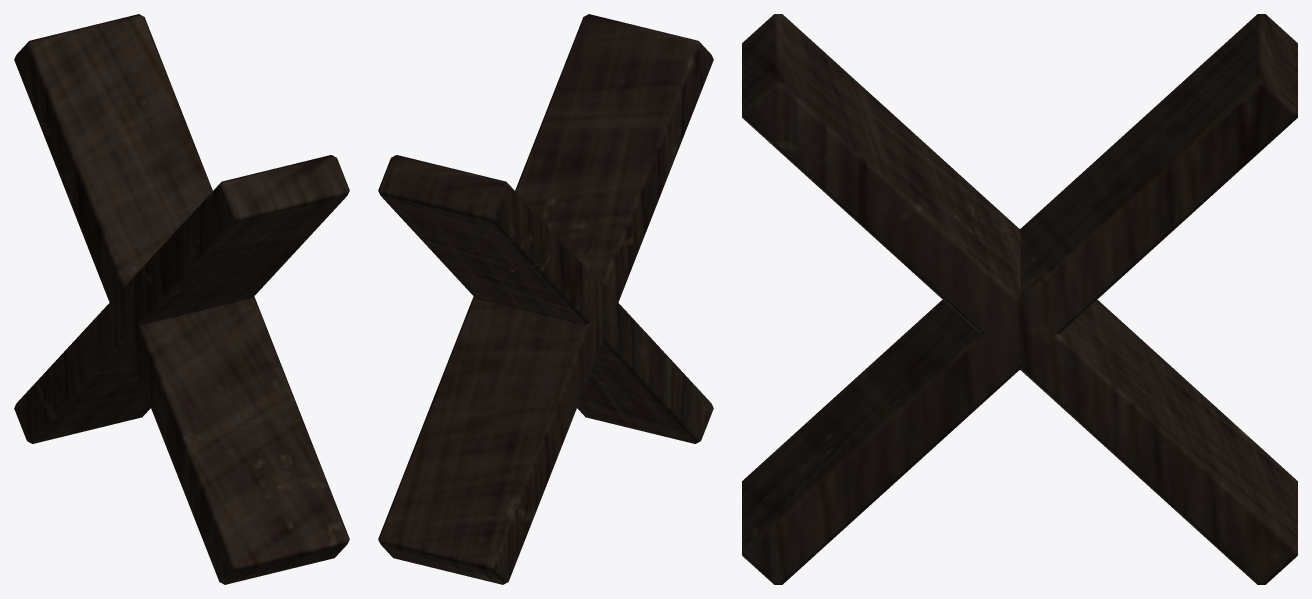
File: 04_Cavaletti2.glb
The picture shows the model from 3 angles, left to right: view 1: azimuth 30°, elevation 25°; view 2: azimuth 150°, elevation 25°; view 3: azimuth 270°, elevation 25°; orthographic projection. The views are drawn at different scales.
Visible parts, largest first — view 1: Cavaletti2; view 2: Cavaletti2; view 3: Cavaletti2.
Boxes of the visible parts, <box> form: Cavaletti2: <box>14,14,349,584</box>; Cavaletti2: <box>378,14,713,584</box>; Cavaletti2: <box>742,14,1297,584</box>.
Size of the model in its own units: 0.15 by 0.4881 by 0.4881.
1 material, 1 textured.
